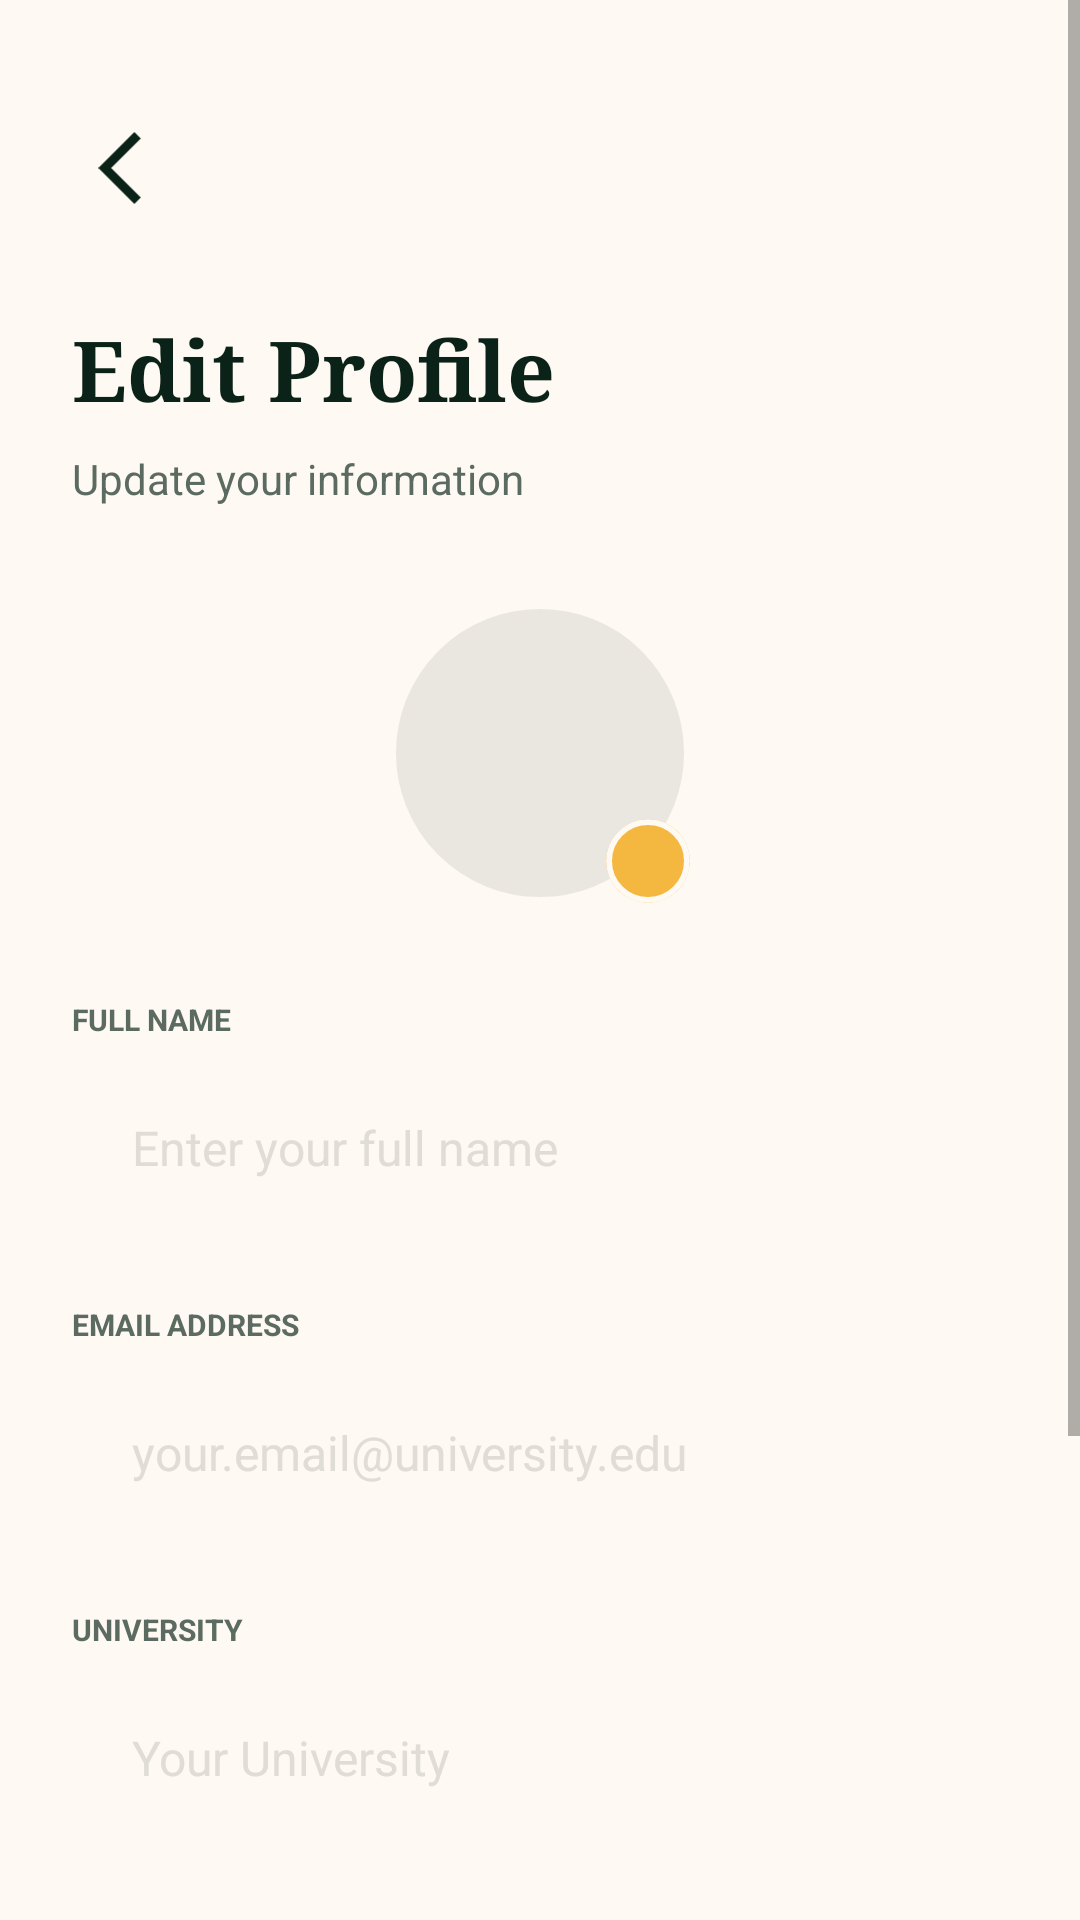

Locate icon controls on the screen. Image size 1080 x 1920, boxes as rect(x1, y1, x2, y2).
back: rect(98, 132, 141, 204)
